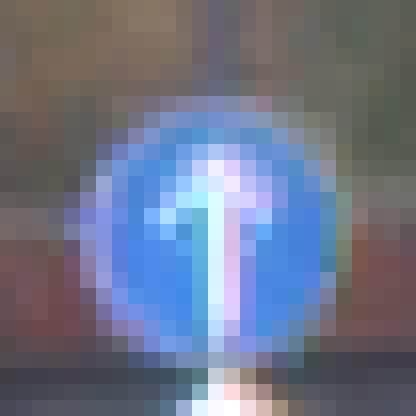AheadOnly: (81, 97, 321, 337)
